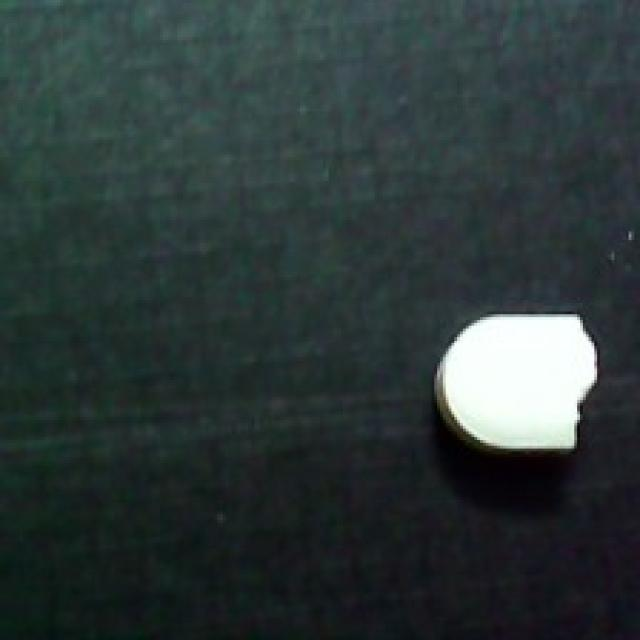defected: (426, 311, 603, 460)
